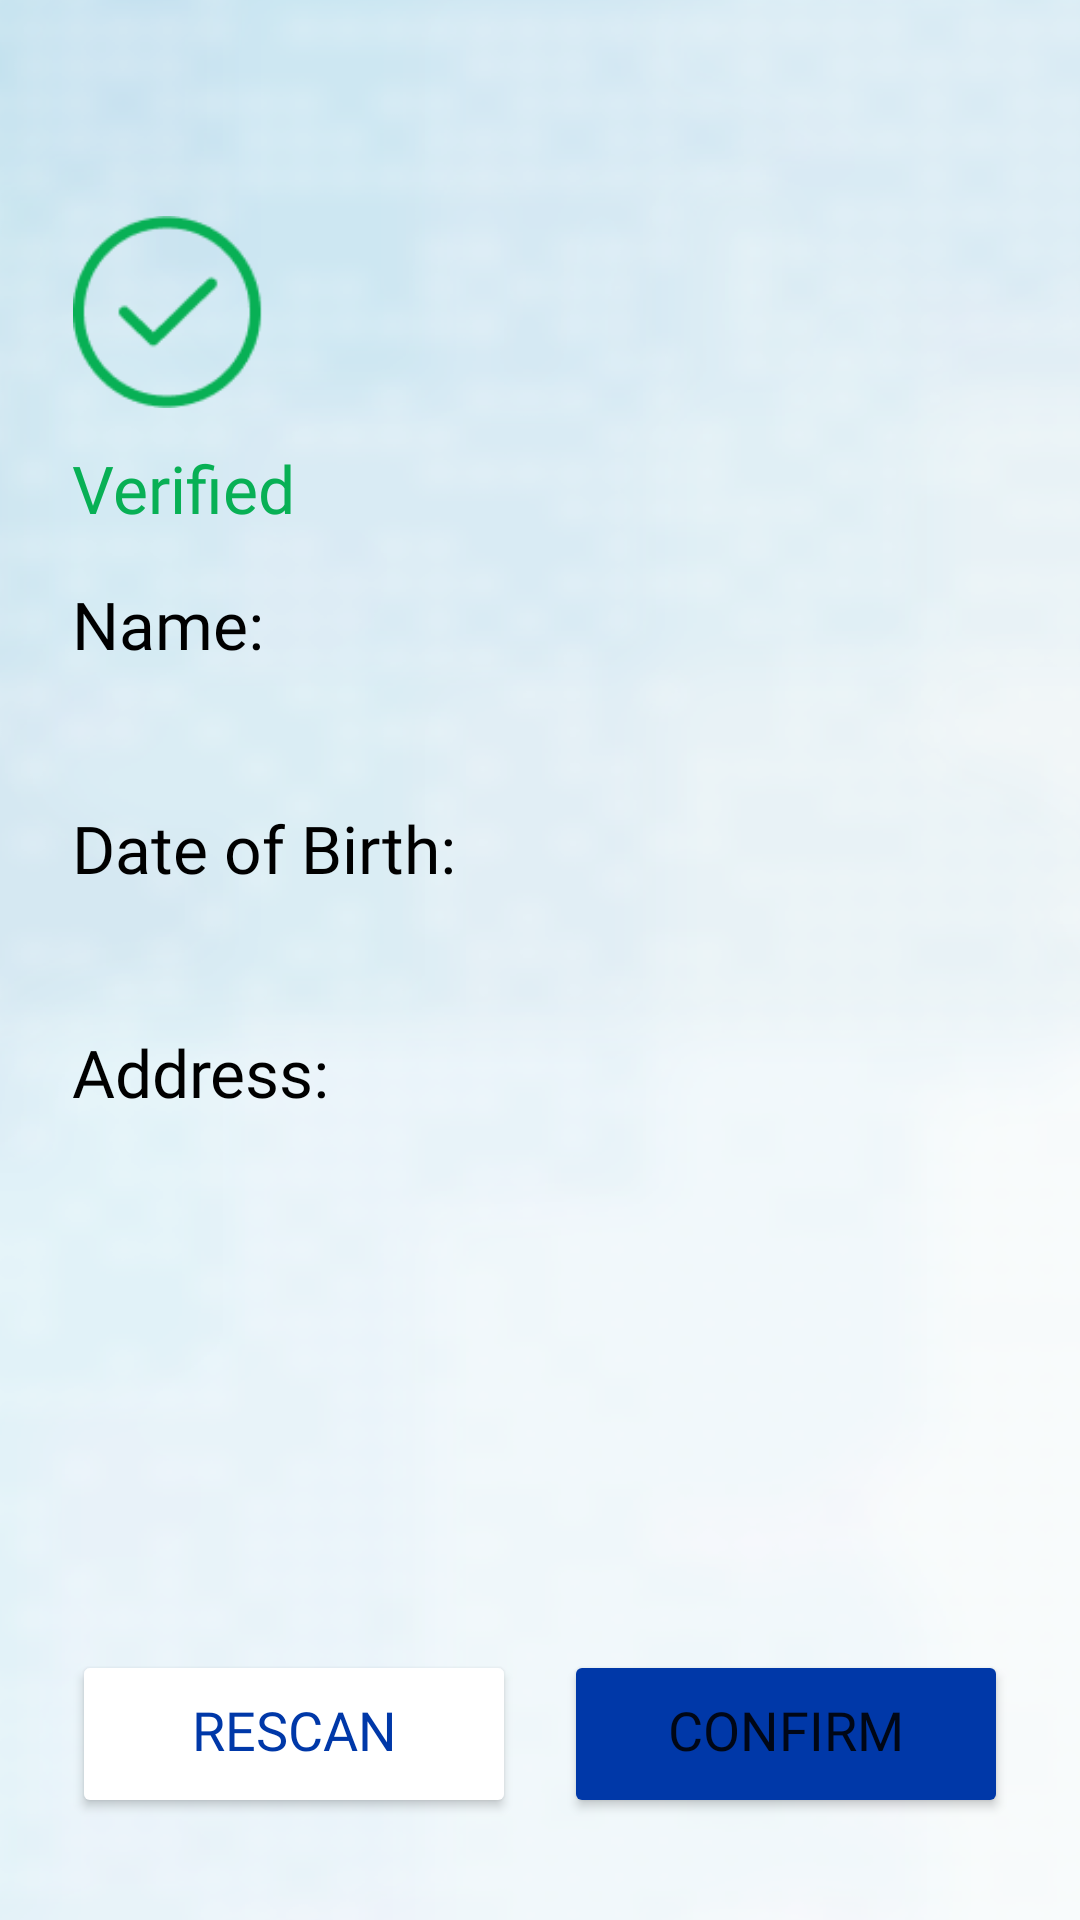

Icon click points for this 1080px×1920px phone screenshot, format [x,y]:
resolvedicon: [167,312]
